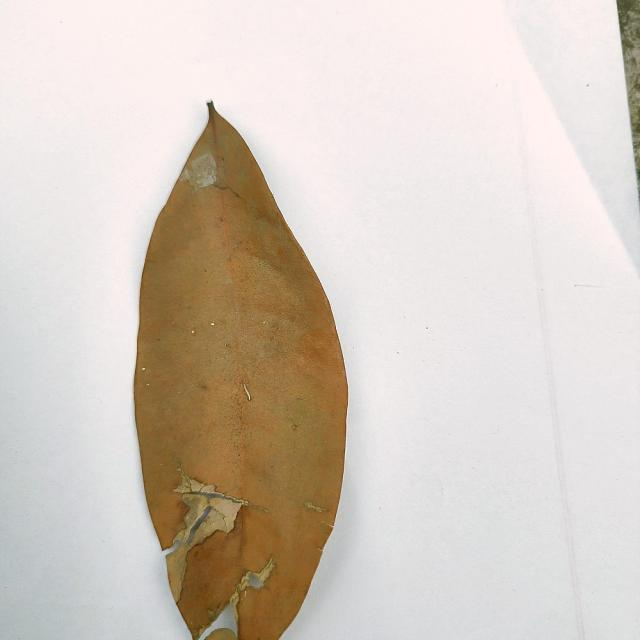Dry_Leaf-Lychee: (132, 102, 349, 639)
